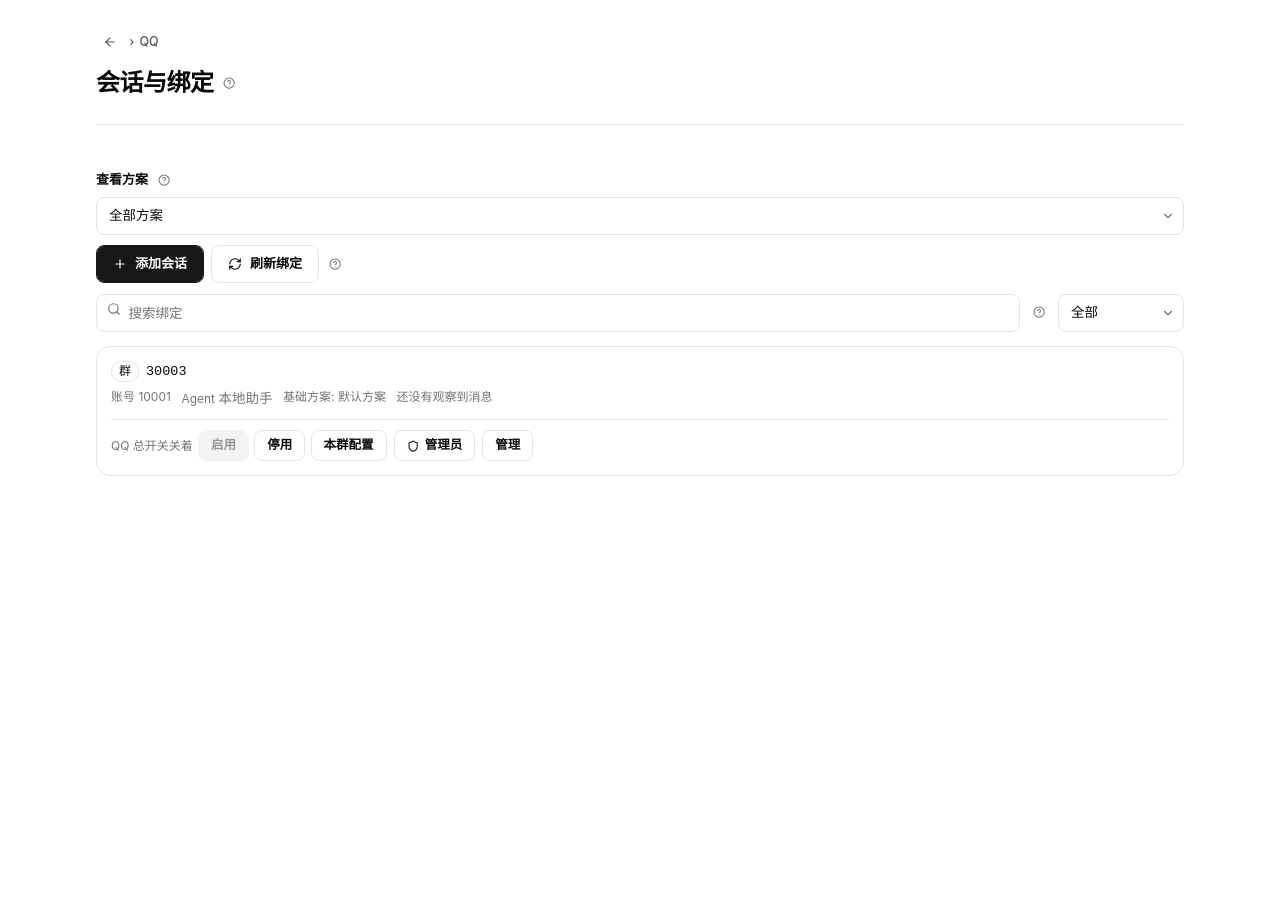
群行管理员入口打开唯一编辑器并直接定位管理员分区，不写任何绑定
What coordinates should you click on to do the following:
click the button "管理员"
I would click on:
 (434, 446)
Its box is [394, 430, 475, 461].
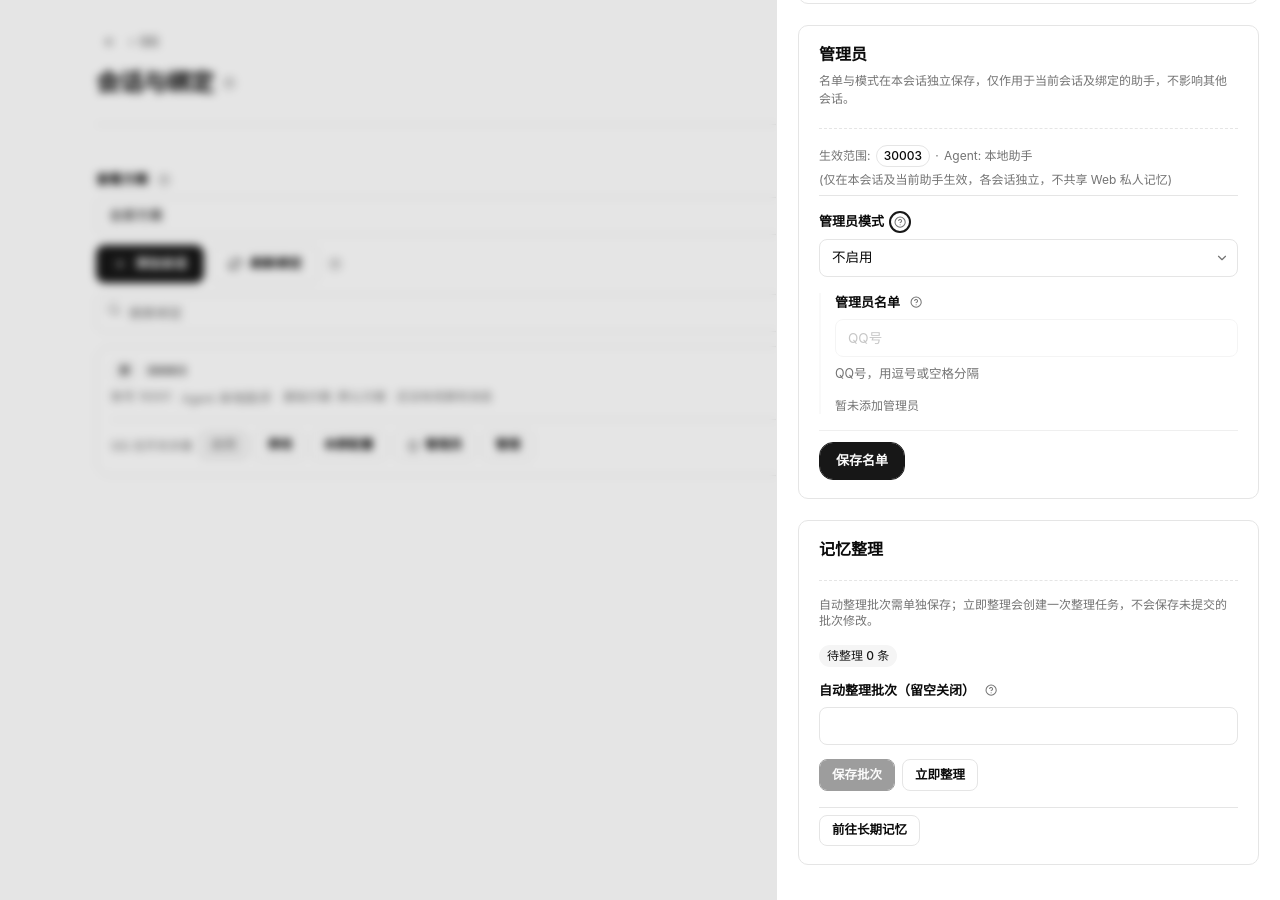
Check: the element that starts with "管理员" is shown, box [798, 25, 1259, 499]
Check: the number of dialogs is 1, box [776, 0, 1279, 899]
